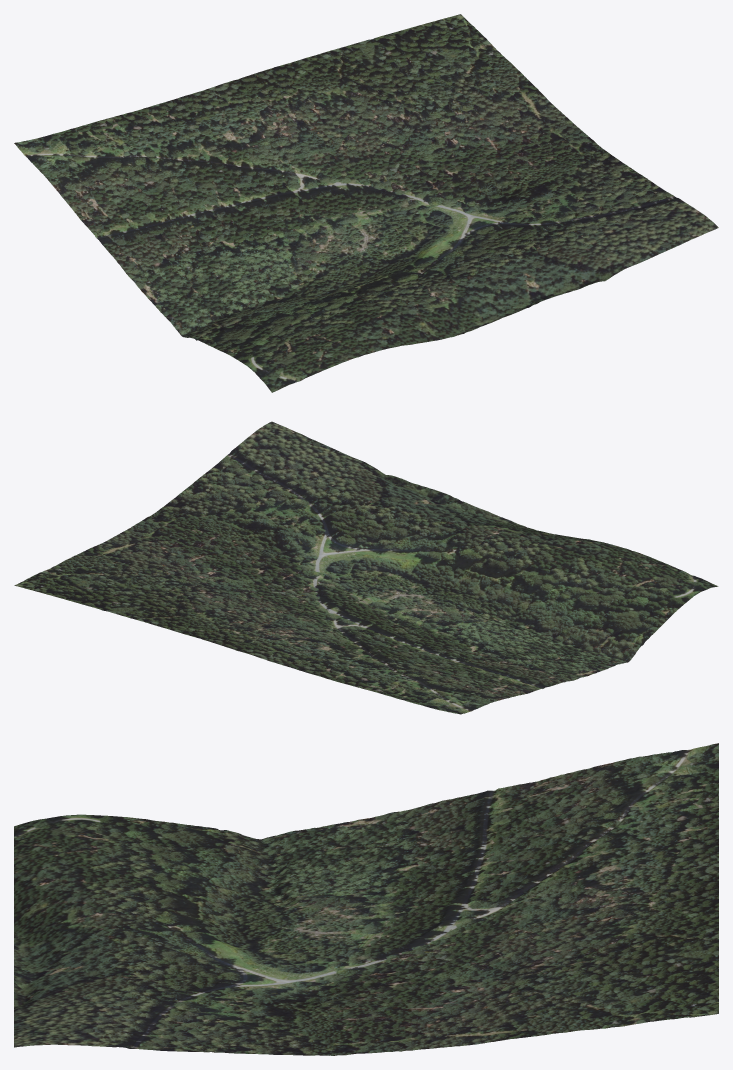
File: terrain_1_0.glb
3 views of the same model, one above another, from view 1: azimuth 30°, elevation 25°; view 2: azimuth 150°, elevation 25°; view 3: azimuth 270°, elevation 25° (orthographic). The views are drawn at different scales.
Visible parts, largest first — view 1: geometry_0; view 2: geometry_0; view 3: geometry_0.
Part boxes in pixels (x1,y1,x2,y2): geometry_0: (14,14,718,392); geometry_0: (14,421,718,714); geometry_0: (14,743,718,1055).
Size of the model in its own units: 499 by 96.43 by 499.
Materials: 1 (1 with a texture image).
